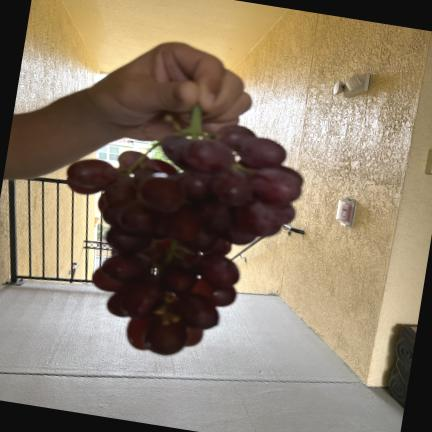grape_cluster: (67, 115, 303, 355)
